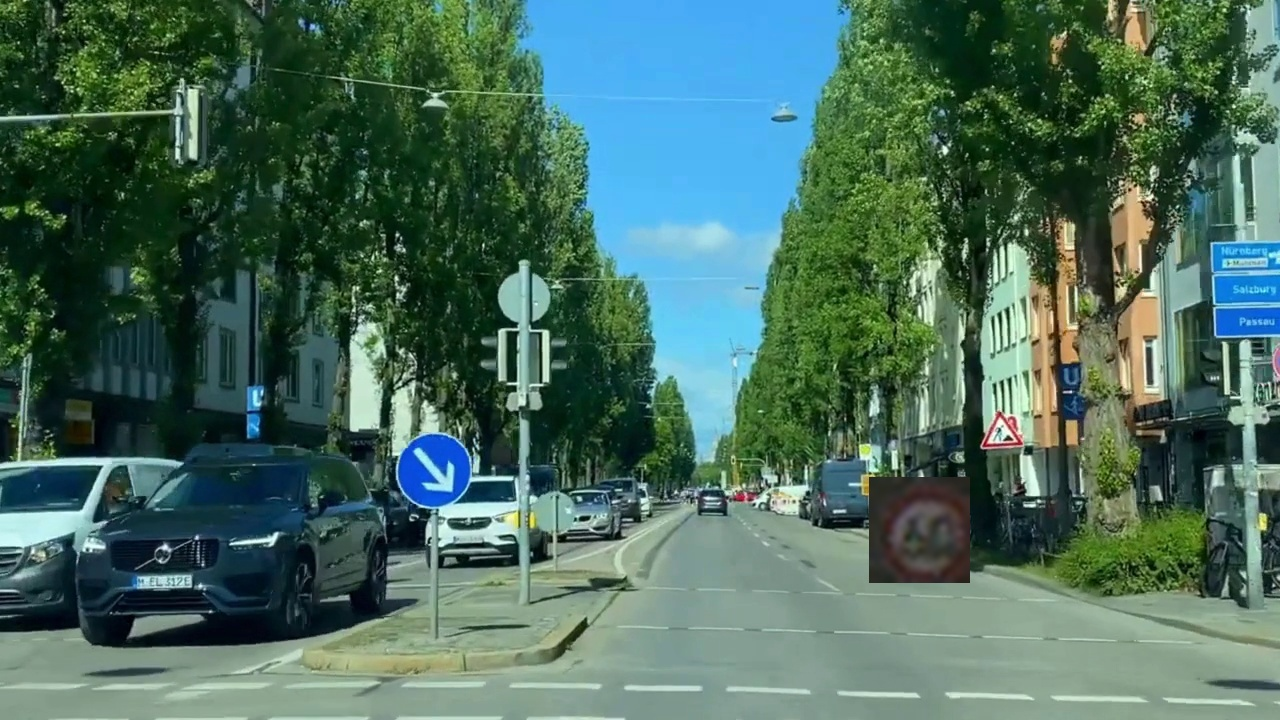Speed 60: (869, 477, 970, 583)
